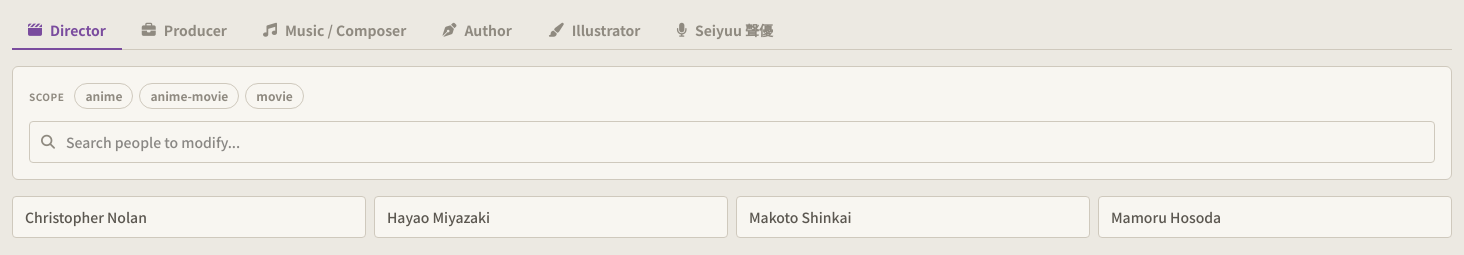
Scenario: filters the list to the scopes ticked, matching any one of them
This screenshot has width=1464, height=255.
Expected: the button "Hayao Miyazaki" is shown, [374,196,728,238]
One scope: only the people holding the sub-tab's role in it.
Click the button "anime-movie" at (189, 96), box [139,83,239,109]
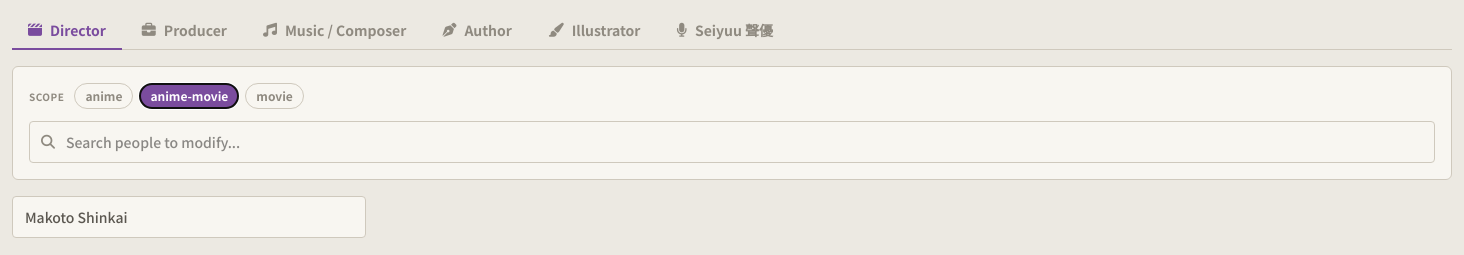
Expected: the button "Makoto Shinkai" is shown, [12,196,366,238]
Expected: the button "Hayao Miyazaki" is gone
A second scope widens the list - in scope for EITHER is enough.
Click the button "anime" at (104, 96), box [74,83,133,109]
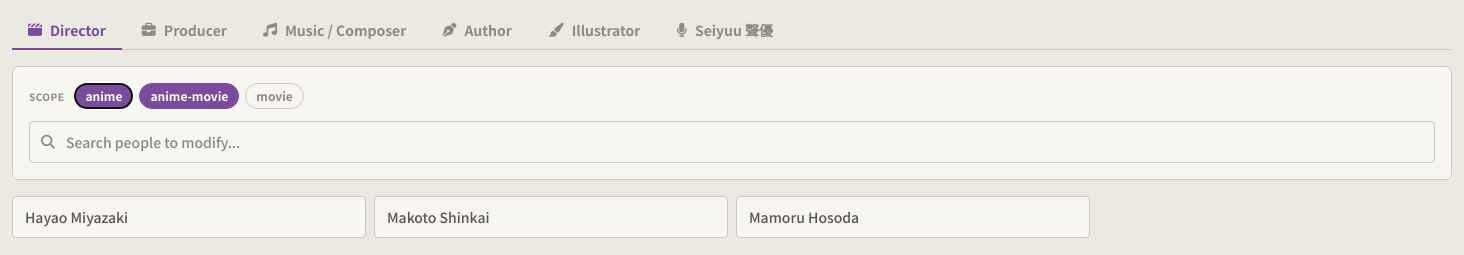
Expected: the button "Makoto Shinkai" is shown, [374,196,728,238]
Expected: the button "Hayao Miyazaki" is shown, [12,196,366,238]
Unticking every scope goes back to showing everyone.
Click the button "anime-movie" at (189, 96), box [139,83,239,109]
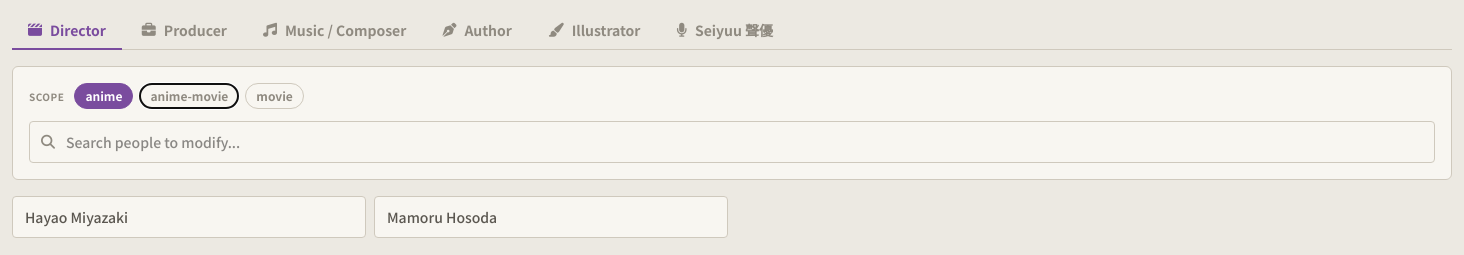
Click the button "anime" at (104, 96), box [74,83,133,109]
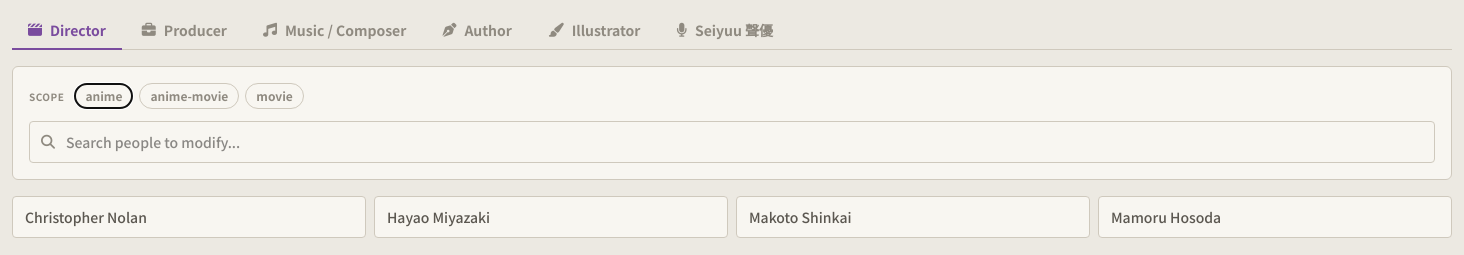
Expected: the button "Christopher Nolan" is shown, [12,196,366,238]
